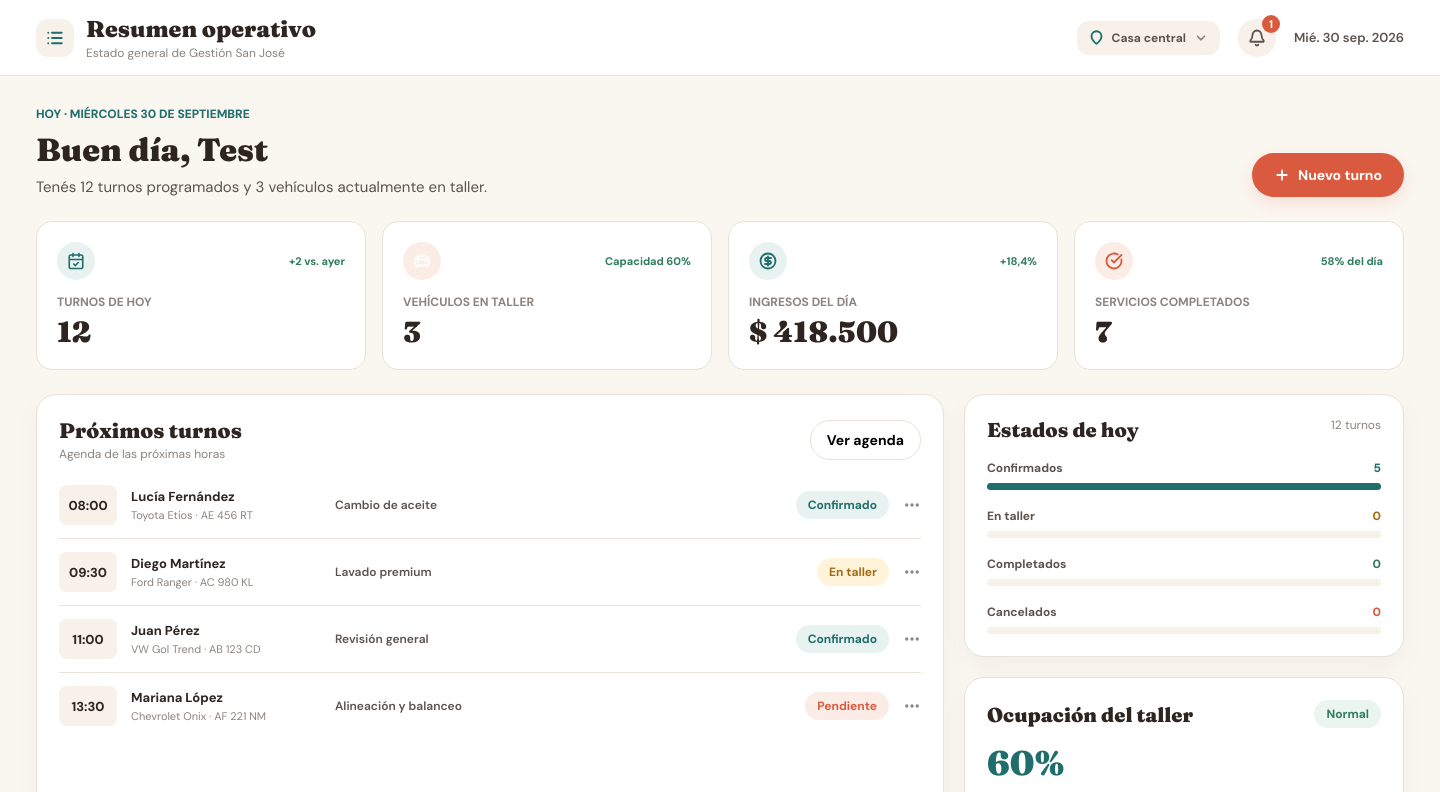
Test case: Reservar turno › el menú vuelve a 0 al entrar a otra sección
Expected: the text "Resumen operativo" is shown, [86, 14, 316, 42]
Note: Abrir el menú y navegar a otra sección.
What coordinates should you click on to do the following:
click the button named "desplegar el menú"
I would click on:
 (55, 38)
Its box is [36, 18, 74, 56].
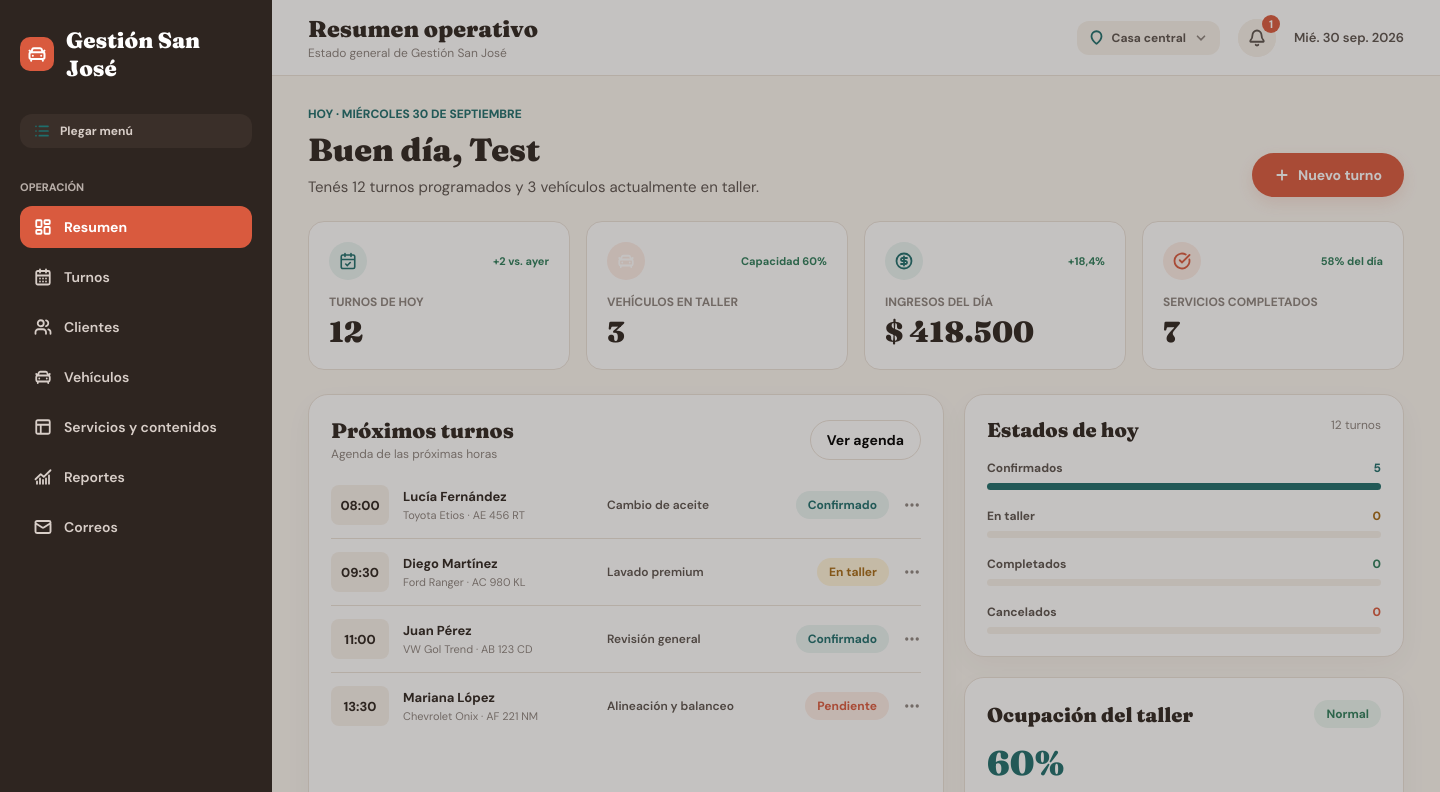
What coordinates should you click on to do the following:
click the link "Turnos"
I would click on:
 (72, 277)
Its box is [34, 268, 110, 286].
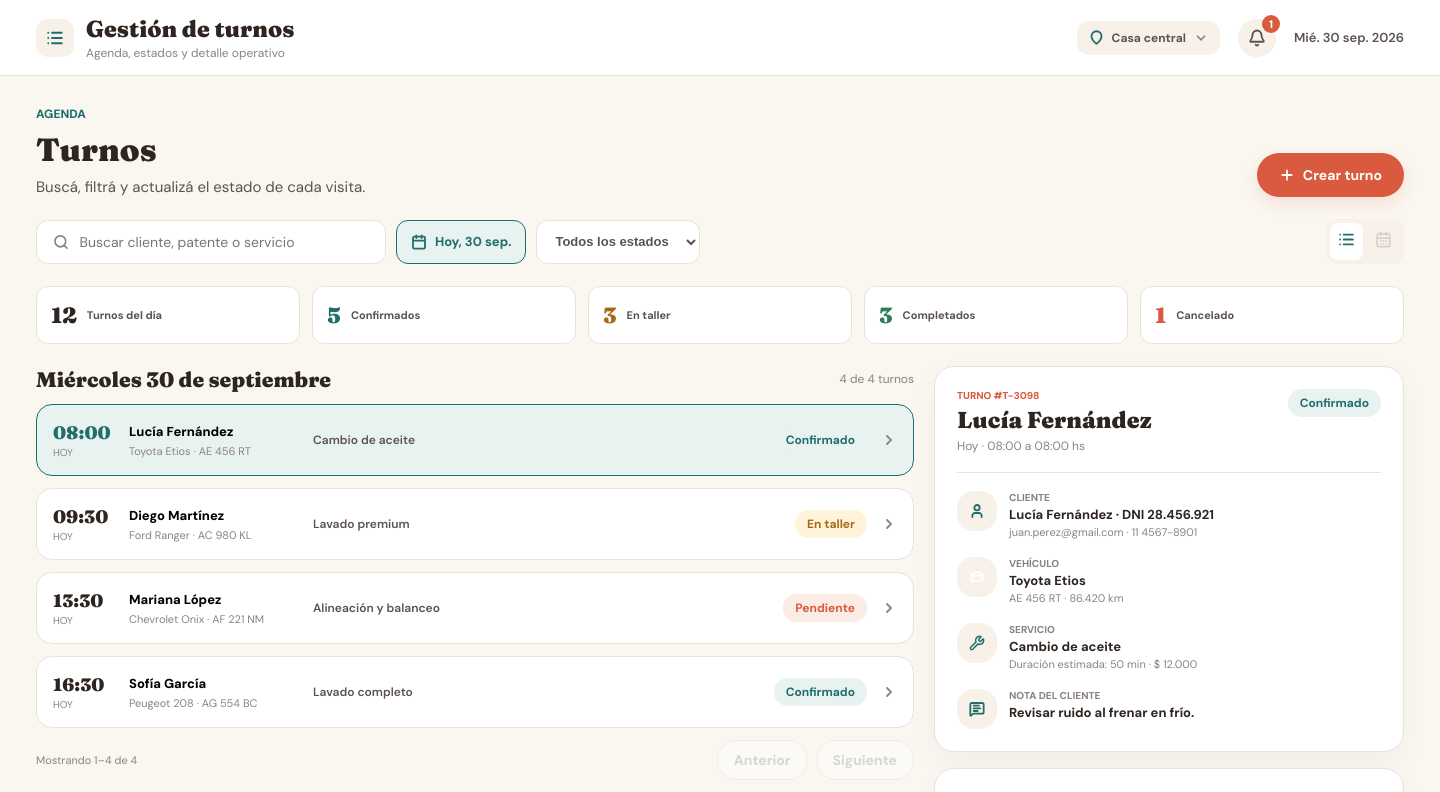
Expected: the text "Gestión de turnos" is shown, [86, 14, 294, 42]
Expected: the button named "desplegar el menú" is shown, [36, 18, 74, 56]
